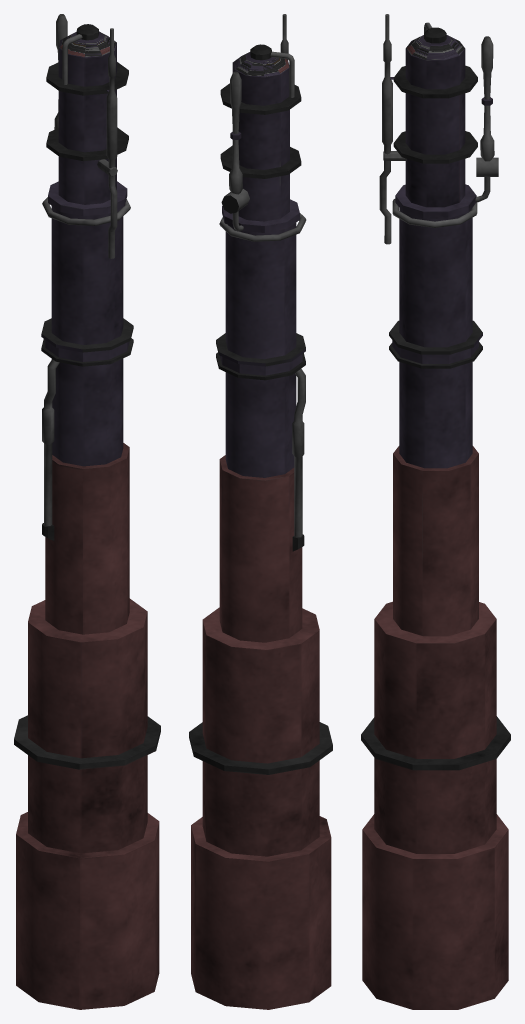
The model's file is ETC0710018.fbx.
3 views of the same model, side by side, from view 1: azimuth 30°, elevation 25°; view 2: azimuth 150°, elevation 25°; view 3: azimuth 270°, elevation 25° (orthographic). The views are drawn at different scales.
Parts seen in each view (by area): view 1: smETC0710018; view 2: smETC0710018; view 3: smETC0710018.
Boxes of the visible parts, bbox=[...] form: smETC0710018: bbox=[14, 14, 160, 1009]; smETC0710018: bbox=[189, 14, 332, 1009]; smETC0710018: bbox=[361, 14, 510, 1009].
Bounding box in the file's own units: 1569 × 11721 × 1650.
1 material, 1 textured.
